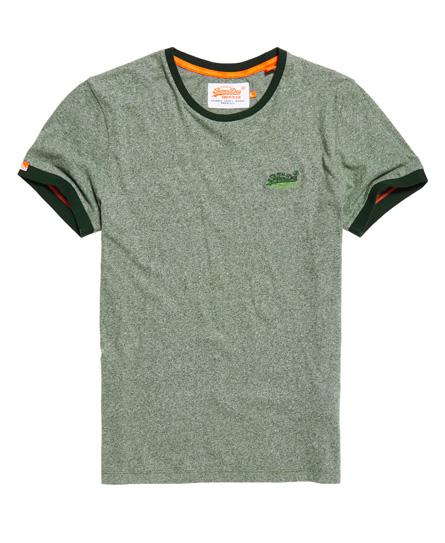teeshirt: (14, 37, 437, 510)
